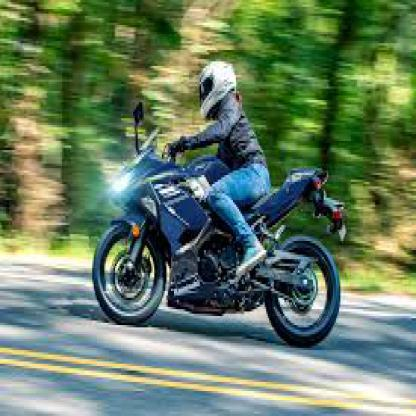Motorcycle: (90, 126, 349, 352)
